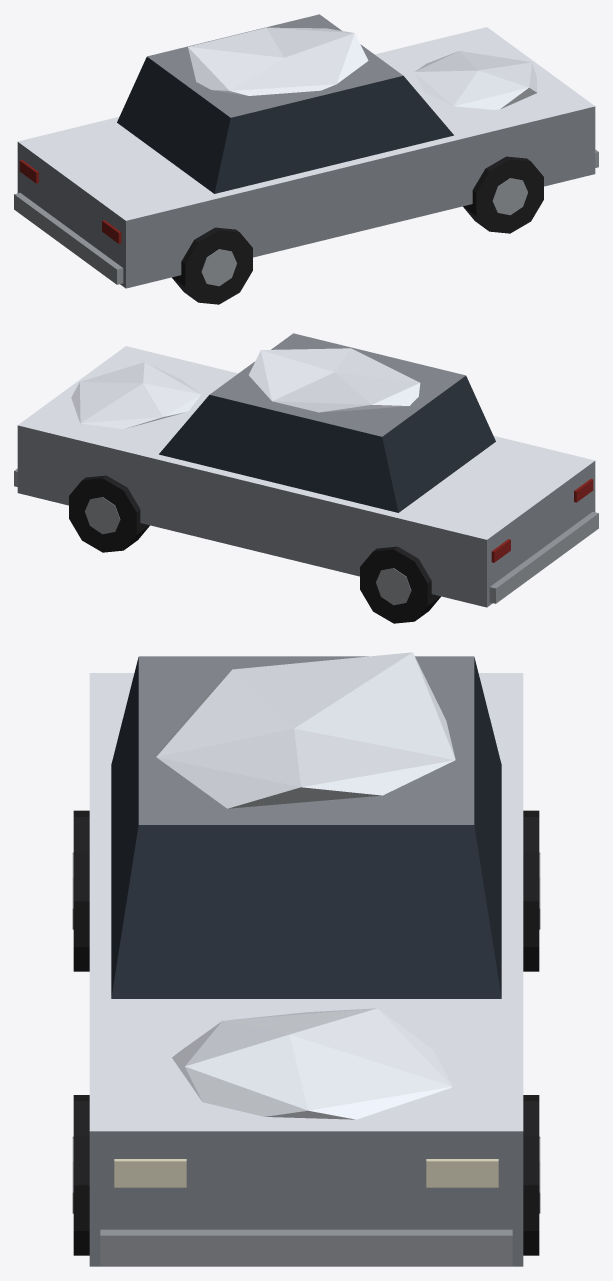
Rendered from car-sedan.glb.
3 views of the same model, one above another, from view 1: azimuth 30°, elevation 25°; view 2: azimuth 150°, elevation 25°; view 3: azimuth 270°, elevation 25° (orthographic). The views are drawn at different scales.
Visible parts, largest first — view 1: car-sedan; view 2: car-sedan; view 3: car-sedan.
Part boxes in pixels (x1,y1,x2,y2): car-sedan: (14, 14, 598, 304); car-sedan: (14, 333, 598, 623); car-sedan: (72, 652, 540, 1266).
Size of the model in its own units: 4.62 by 1.68 by 1.94.
